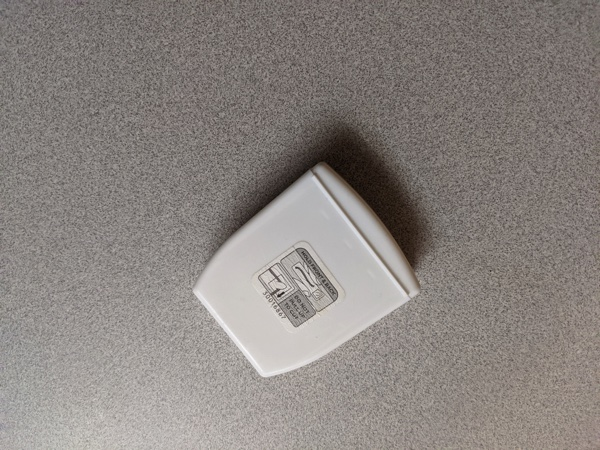plastic: (168, 149, 448, 393)
